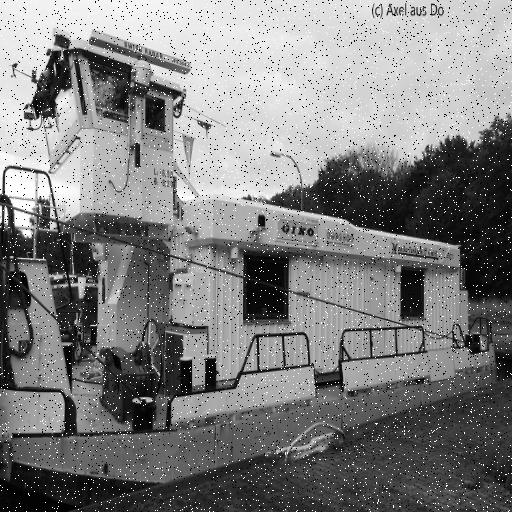tugboat: (1, 21, 500, 512)
